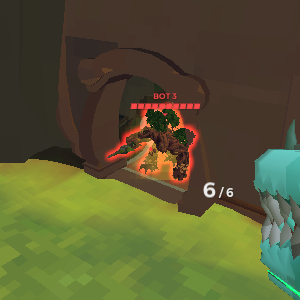model: (109, 107, 203, 194)
